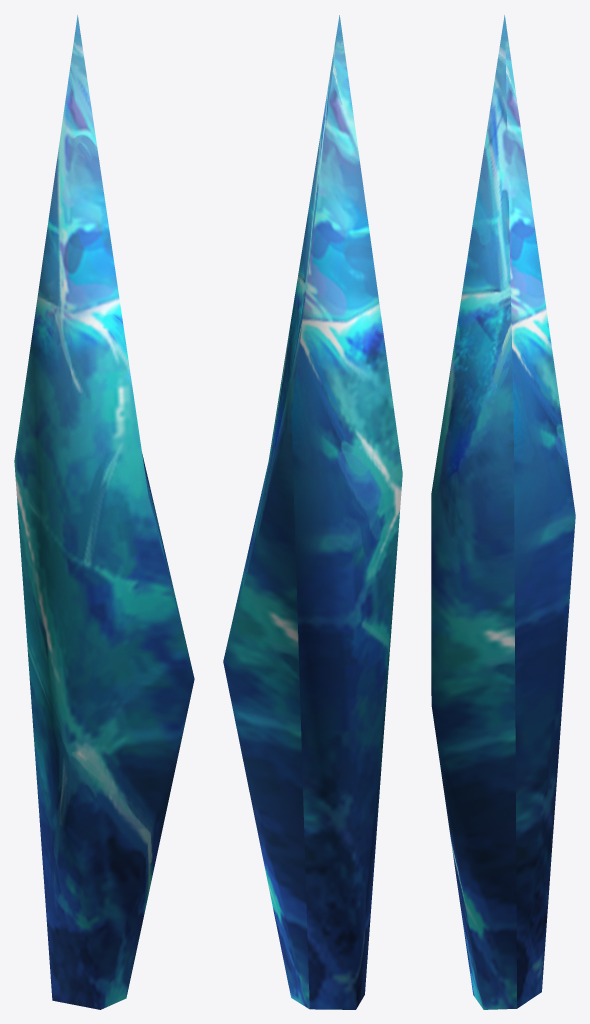
File: bin_03.FBX
The picture shows the model from 3 angles, left to right: view 1: azimuth 30°, elevation 25°; view 2: azimuth 210°, elevation 25°; view 3: azimuth 270°, elevation 25°; orthographic projection.
Parts seen in each view (by area): view 1: bin_03; view 2: bin_03; view 3: bin_03.
Part boxes in pixels (box(x1,y1,x2,y2)): bin_03: box(14, 15, 194, 1009); bin_03: box(223, 15, 402, 1009); bin_03: box(431, 15, 575, 1009).
Size of the model in its own units: 9.59 by 9.6 by 71.69.
